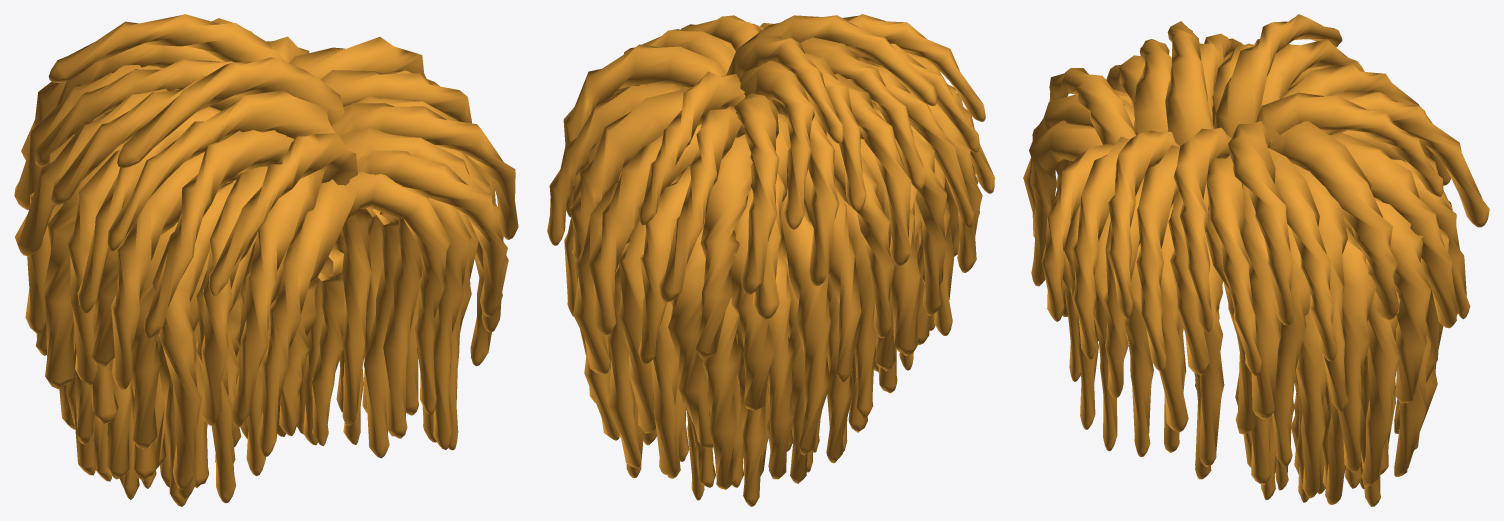
The model's file is Hair_05.fbx.
The picture shows the model from 3 angles, left to right: view 1: azimuth 30°, elevation 25°; view 2: azimuth 150°, elevation 25°; view 3: azimuth 270°, elevation 25°; orthographic projection. The views are drawn at different scales.
Visible parts, largest first — view 1: Hair_05; view 2: Hair_05; view 3: Hair_05.
Part boxes in pixels (x1,y1,x2,y2): Hair_05: (14,14,518,506); Hair_05: (547,14,994,506); Hair_05: (1023,14,1489,506).
Size of the model in its own units: 0.3918 by 0.4447 by 0.4237.
